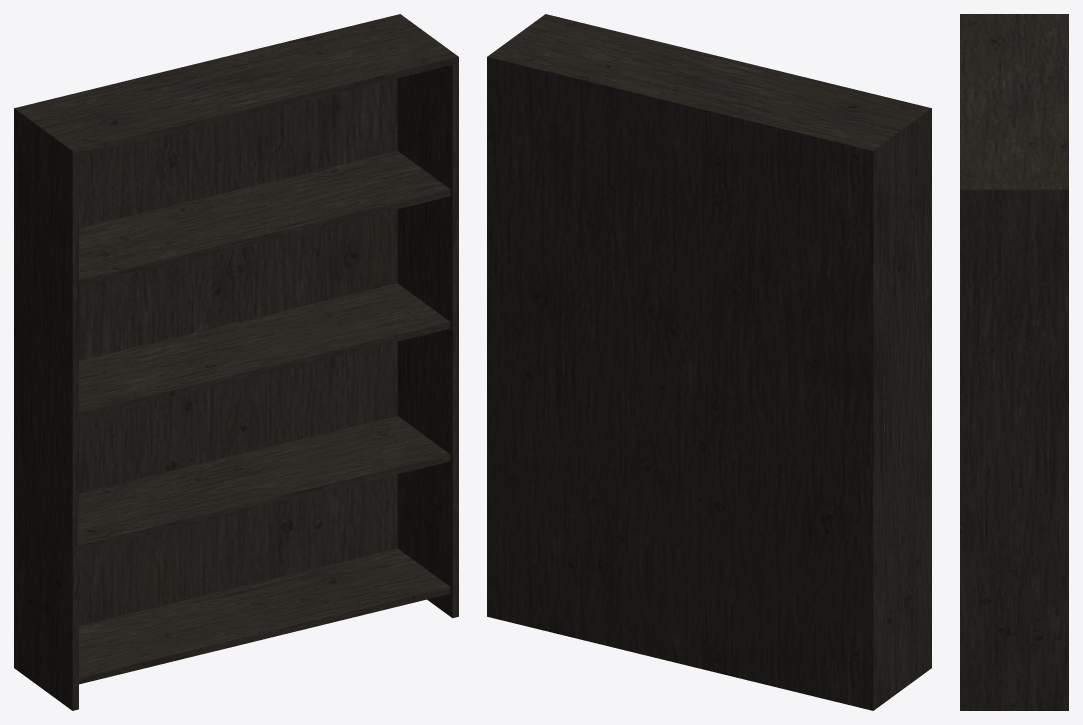
Rendered from shelf_mp_5.obj.
3 renders of one model, left to right at view 1: azimuth 30°, elevation 25°; view 2: azimuth 150°, elevation 25°; view 3: azimuth 270°, elevation 25°, orthographic. The views are drawn at different scales.
Visible parts, largest first — view 1: shelf_mp_5; view 2: shelf_mp_5; view 3: shelf_mp_5.
Boxes of the visible parts, x1=… form: shelf_mp_5: x1=14, y1=14, x2=458, y2=710; shelf_mp_5: x1=487, y1=14, x2=931, y2=710; shelf_mp_5: x1=960, y1=14, x2=1068, y2=710.
Size of the model in its own units: 1.22 by 1.69 by 0.32.
